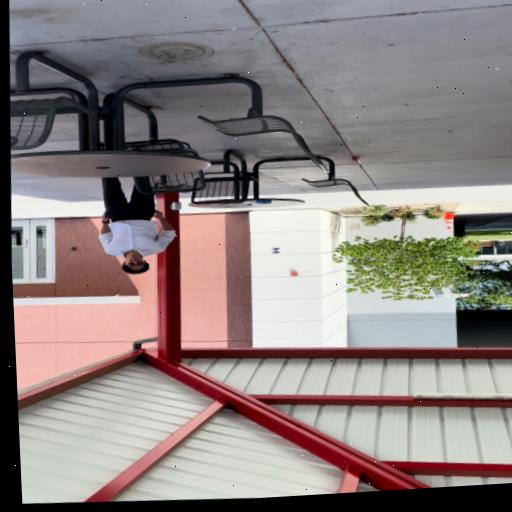target2: (270, 247, 280, 254)
